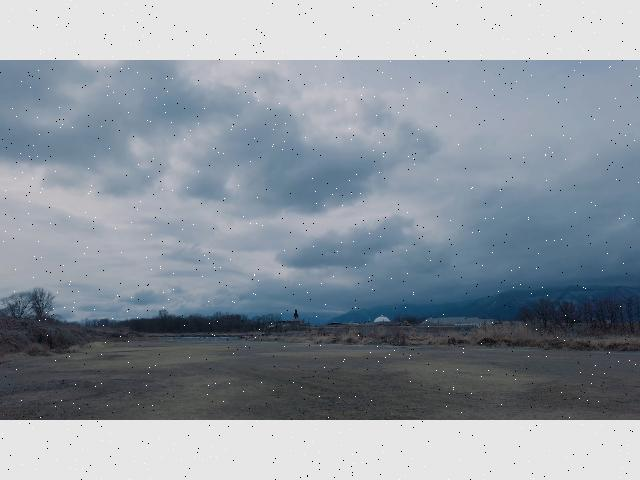Anti-Drone: (287, 279, 297, 287)
